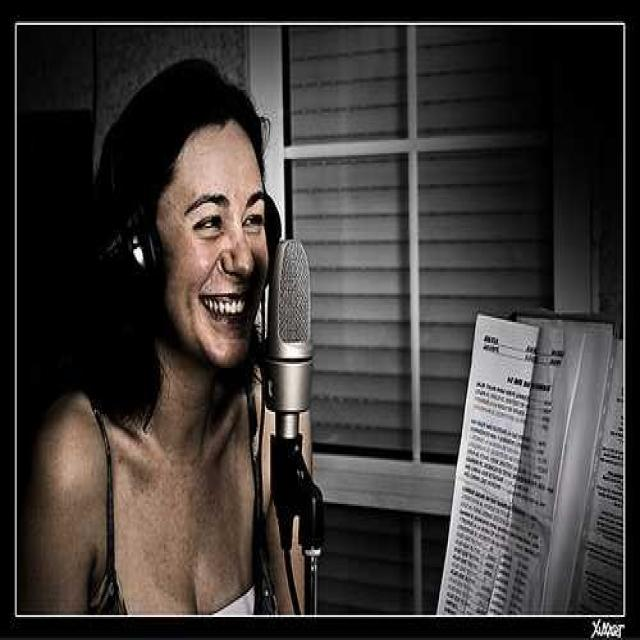microphone: (264, 238, 313, 430)
